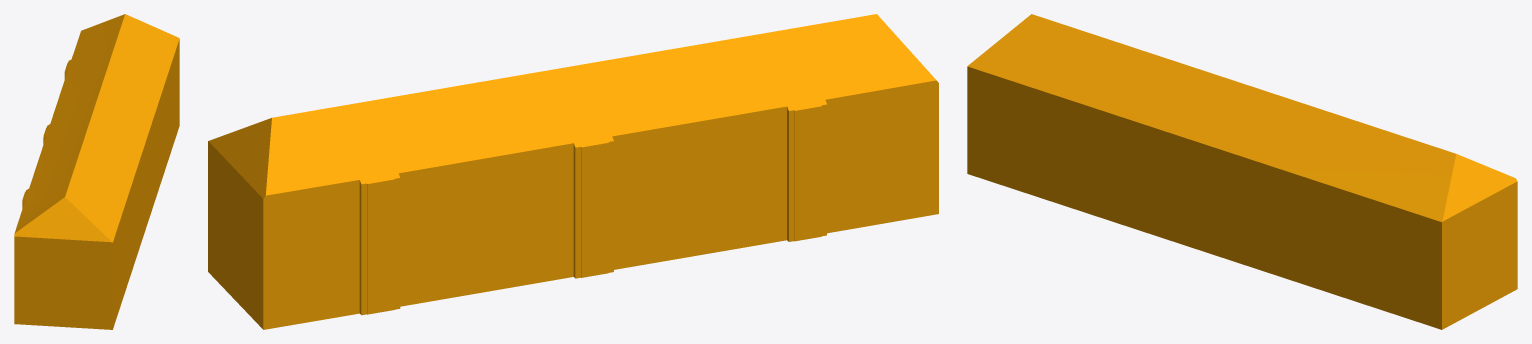
The model's file is DEHB01ALk00017Ux.gltf.
The picture shows the model from 3 angles, left to right: view 1: azimuth 30°, elevation 25°; view 2: azimuth 150°, elevation 25°; view 3: azimuth 270°, elevation 25°; orthographic projection. The views are drawn at different scales.
Visible parts, largest first — view 1: Z_UP; view 2: Z_UP; view 3: Z_UP.
Boxes of the visible parts, x1,y1,x2,y2 form: Z_UP: (14, 14, 179, 329); Z_UP: (208, 14, 938, 329); Z_UP: (967, 14, 1517, 329).
Size of the model in its own units: 37.95 by 13.21 by 44.82.
